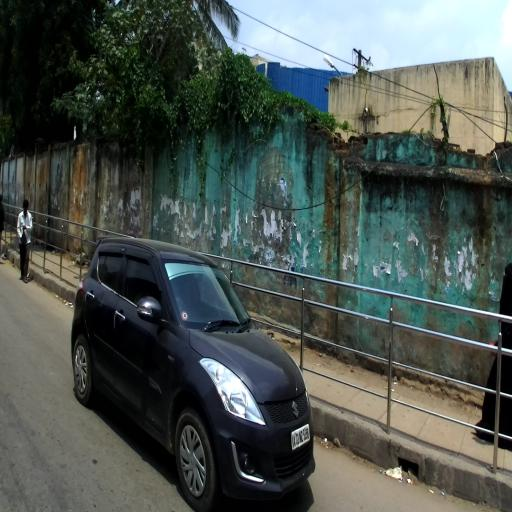street_light_0: (323, 54, 342, 76)
